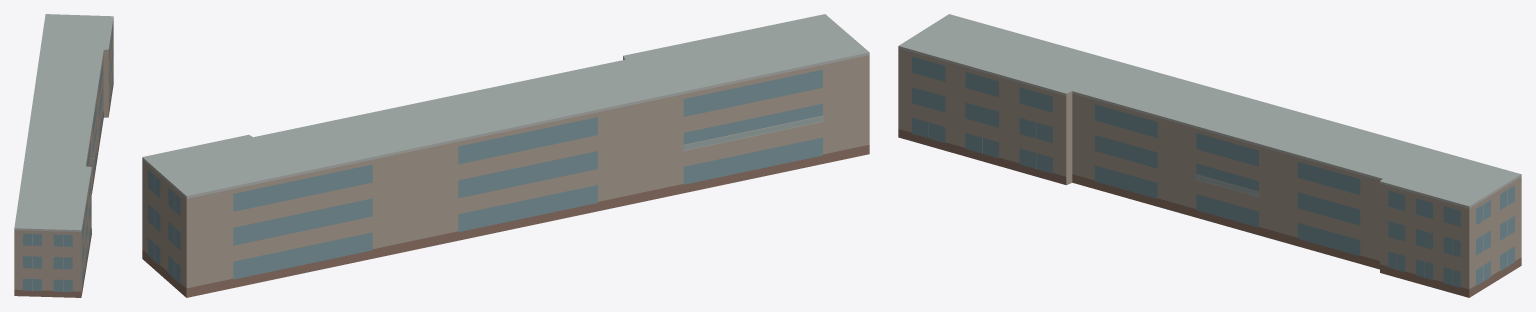
Rendered from survey-upis-32871984.glb.
The picture shows the model from 3 angles, left to right: view 1: azimuth 30°, elevation 25°; view 2: azimuth 150°, elevation 25°; view 3: azimuth 270°, elevation 25°; orthographic projection. The views are drawn at different scales.
Visible parts, largest first — view 1: survey-upis-32871984.tmp; view 2: survey-upis-32871984.tmp; view 3: survey-upis-32871984.tmp.
Boxes of the visible parts, x1,y1,x2,y2 form: survey-upis-32871984.tmp: [14, 14, 113, 297]; survey-upis-32871984.tmp: [142, 14, 869, 297]; survey-upis-32871984.tmp: [898, 14, 1521, 297].
Size of the model in its own units: 41.25 by 9.15 by 56.45.
